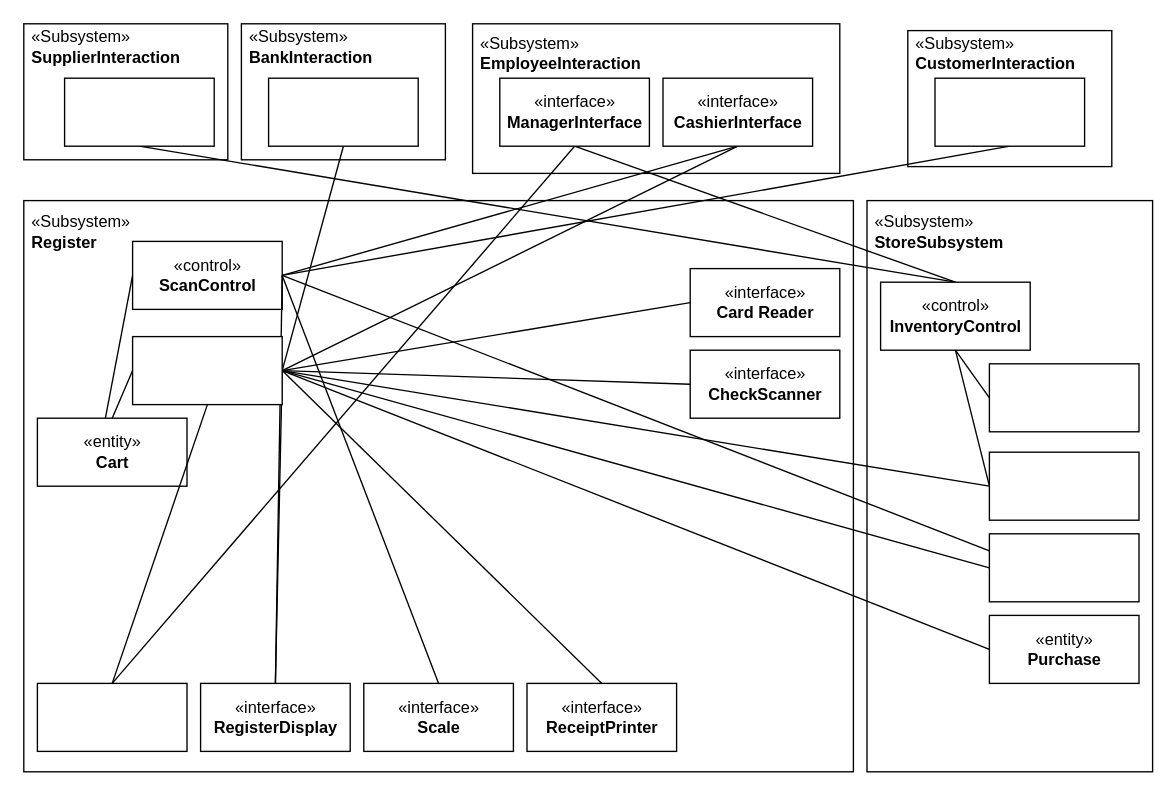
This 1176x796 diagram has some shape labels left out. The centre of each missing label's shape, as x and y in pixels:
«control» CheckoutControl: [206,370]
«entity» Account: [1063,567]
«entity» InventoryOrder: [1063,397]
«entity» ItemInventory: [1063,485]
«interface» BankInterface: [342,111]
«interface» CustomerInterface: [1009,111]
«interface» SupplierInterface: [138,111]
«interface» TillInterface: [111,716]
